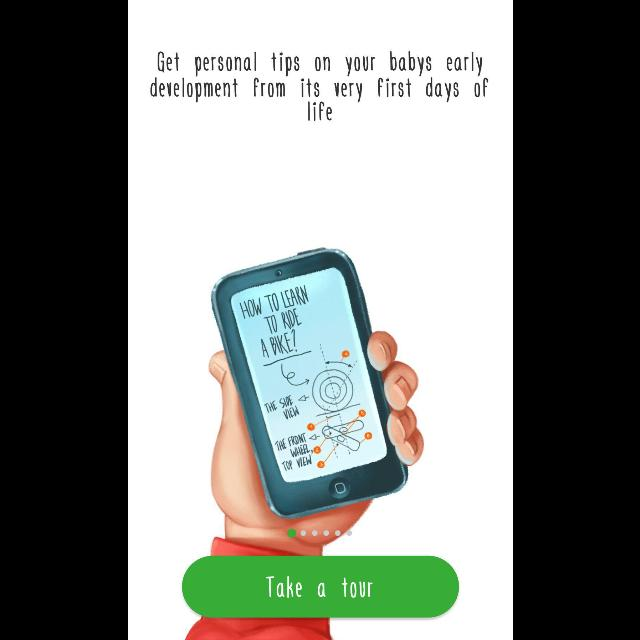image: (183, 246, 424, 640)
pageindicator: (286, 528, 352, 538)
text: (148, 50, 488, 121)
textbutton: (180, 555, 458, 617)
